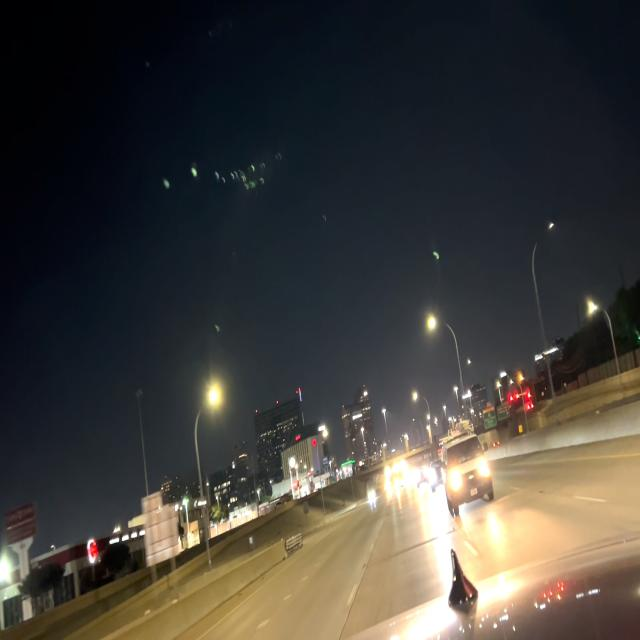back-of-sign: (139, 490, 181, 570)
